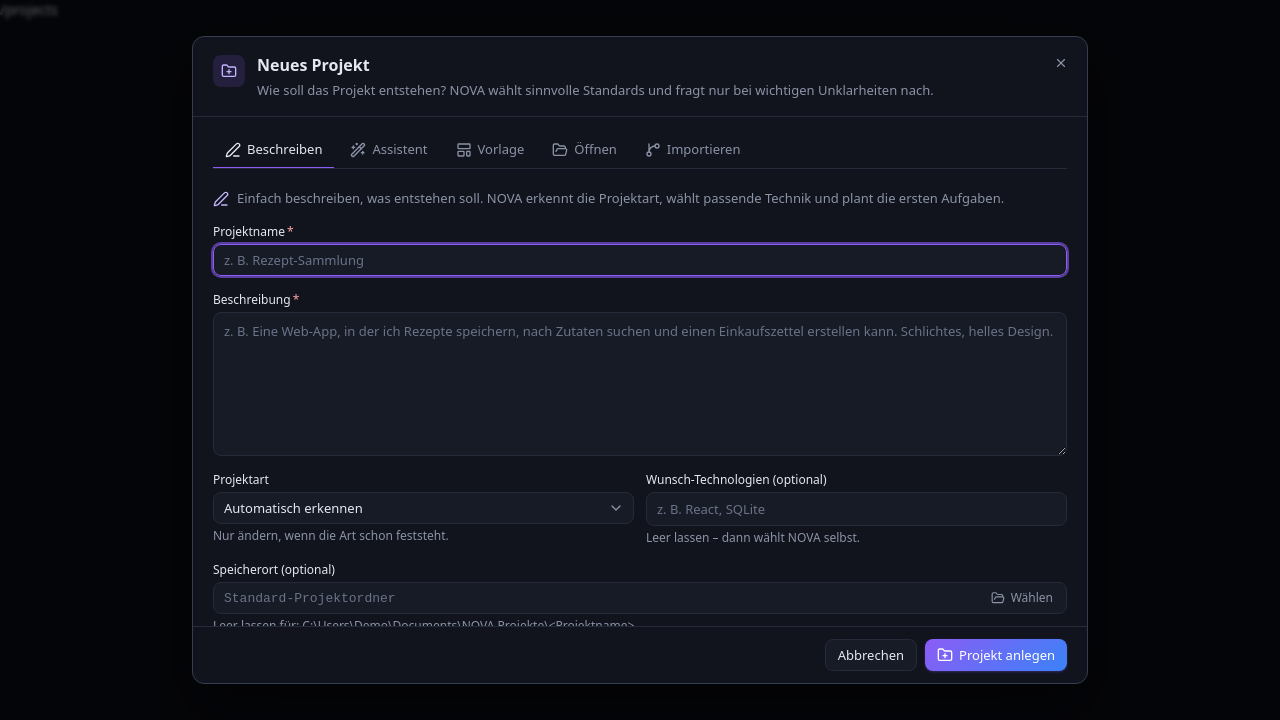
CreateProjectDialog › shows daemon errors inline and keeps the dialog open
Type "Pixel-Abenteuer" into the field labelled "Projektname*" at (640, 260), box [213,244,1067,276]
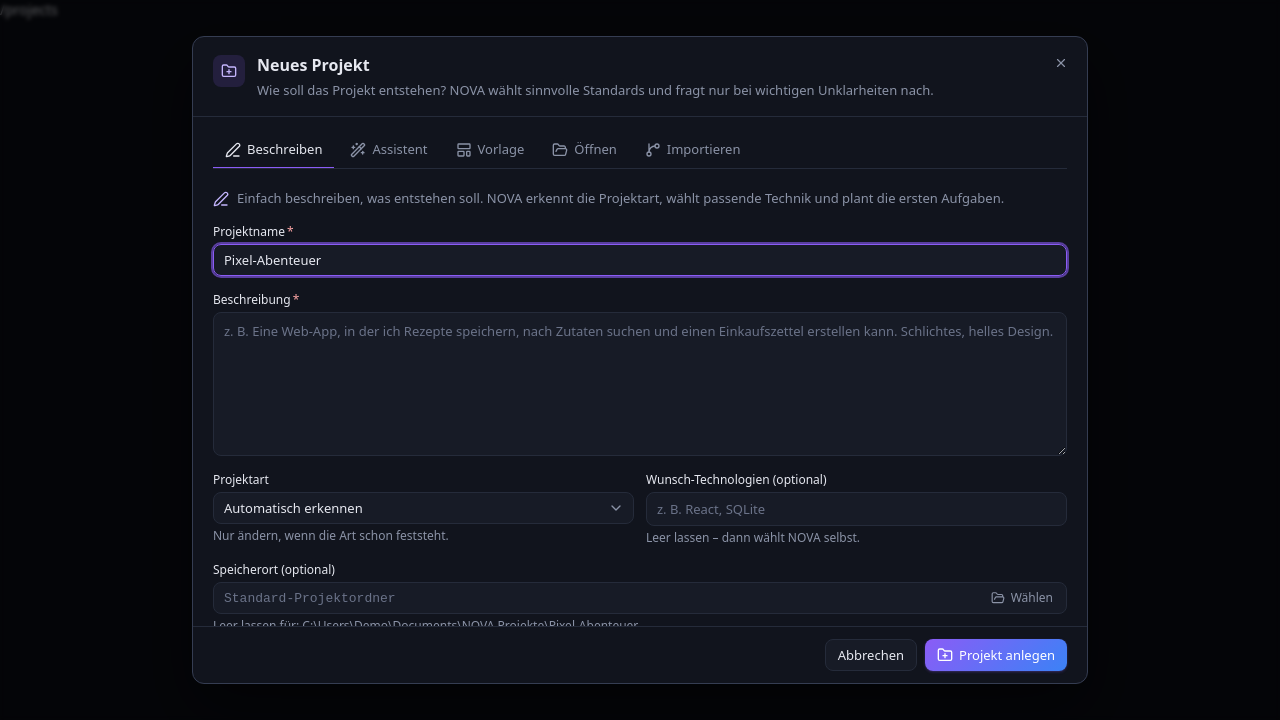
Type "Noch ein Spiel" into the text box labelled "Beschreibung*" at (640, 384), box [213,312,1067,456]
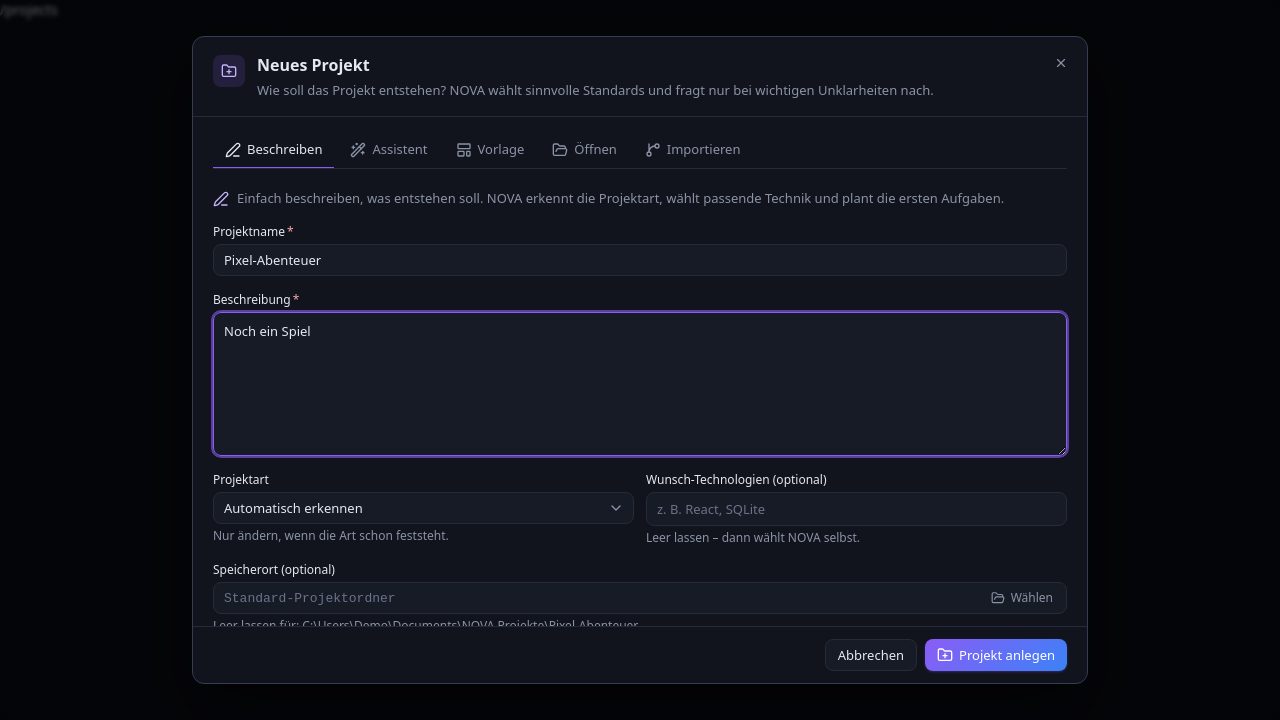
Click the button "Projekt anlegen" at (996, 655), box [925,639,1067,671]
(page scrolled)
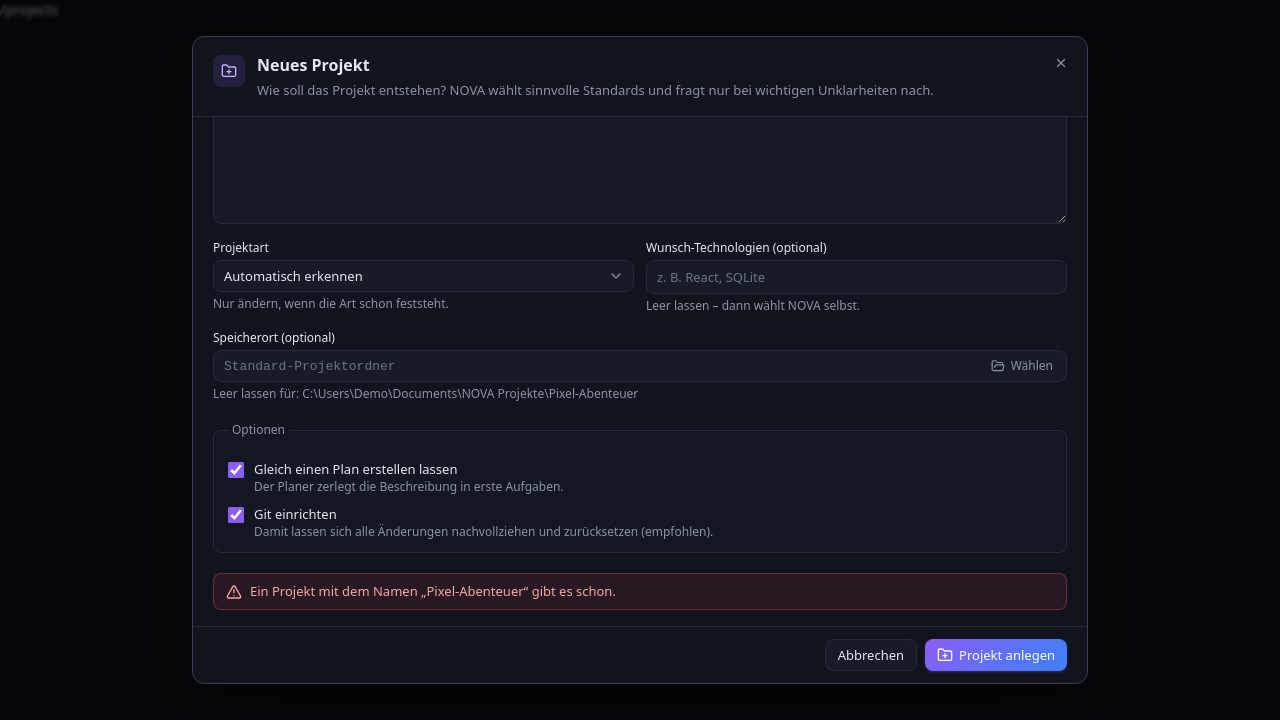
Expected: the text "Ein Projekt mit dem Namen „Pixel-Abenteuer“ gibt es schon." is shown, [213,573,1067,610]
